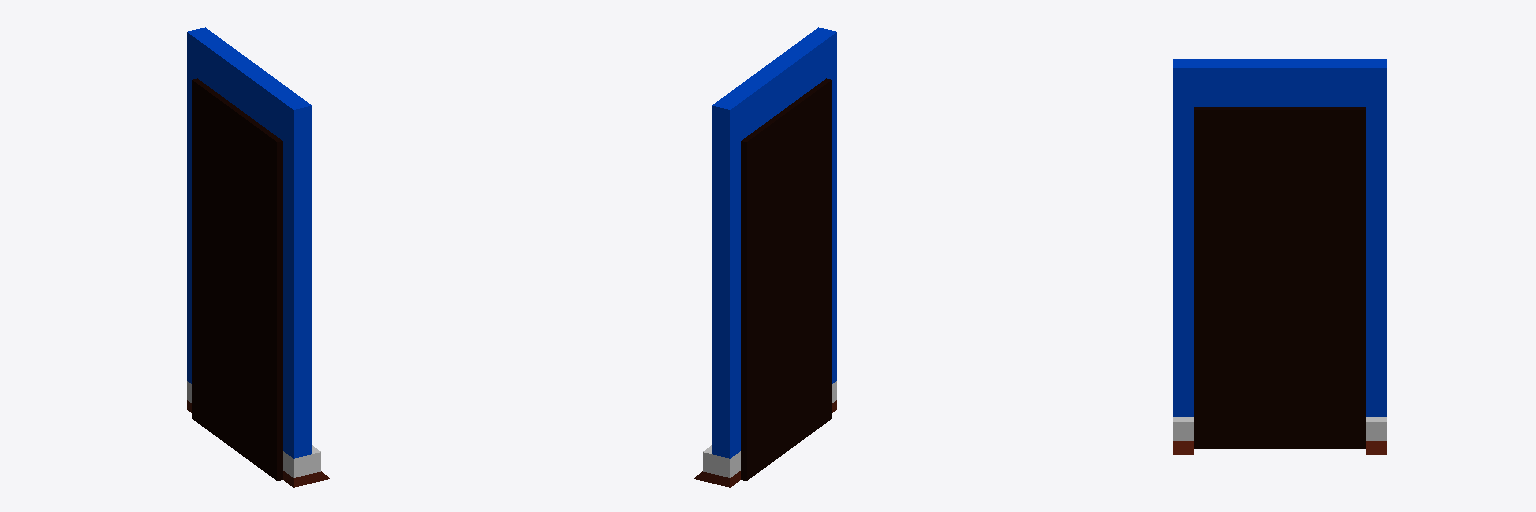
The model's file is DoorWall1.obj.
The picture shows the model from 3 angles: view 1: azimuth 30°, elevation 25°; view 2: azimuth 150°, elevation 25°; view 3: azimuth 270°, elevation 25°; orthographic projection.
Parts seen in each view (by area): view 1: DoorFrame, Top_Cube.001, Middle_Cube.002; view 2: DoorFrame, Top_Cube.001, Middle_Cube.002; view 3: DoorFrame, Top_Cube.001, Middle_Cube.002, Bottom_Cube.003.
Part boxes in pixels (x1,y1,x2,y2): DoorFrame: (192,78,282,480); Top_Cube.001: (187,27,311,458); Middle_Cube.002: (187,381,320,477); DoorFrame: (741,78,831,480); Top_Cube.001: (712,27,836,458); Middle_Cube.002: (703,381,836,477); DoorFrame: (1194,107,1365,448); Top_Cube.001: (1173,59,1386,416); Middle_Cube.002: (1173,417,1386,440); Bottom_Cube.003: (1173,441,1386,454).
Bounding box in the file's own units: 0.23 × 1.95 × 1.